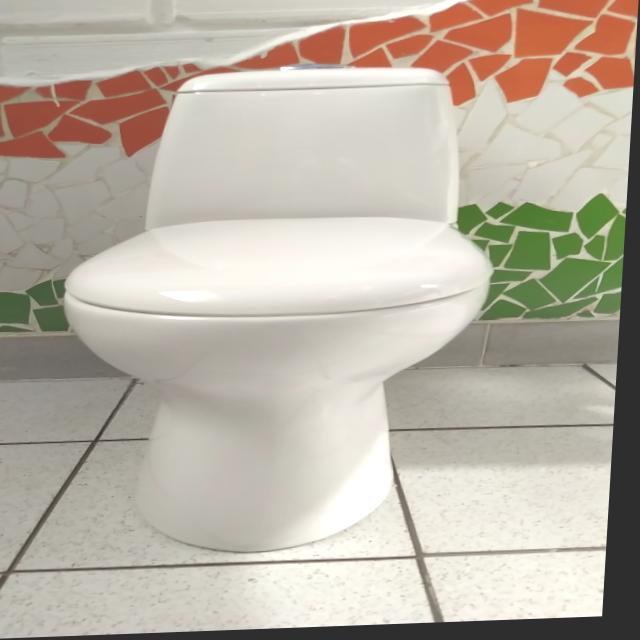toilet: (54, 62, 509, 561)
